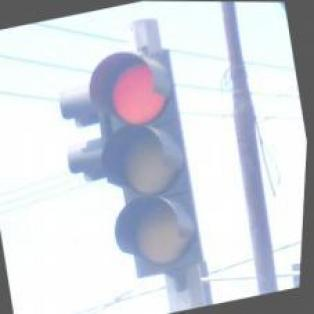Semoforo Rojo: (76, 43, 219, 283)
